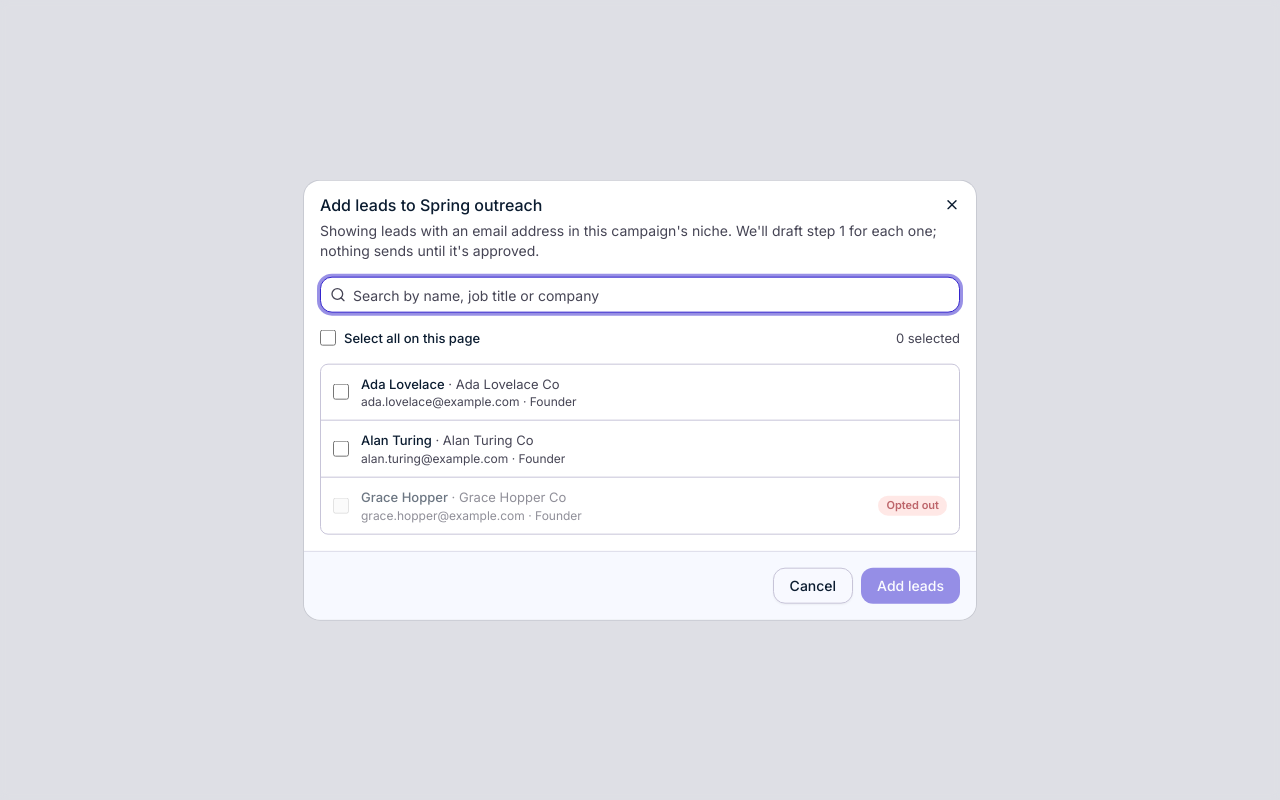
Test: AddLeadsDialog › lets the user pick leads, submits them and shows per-lead results
This screenshot has width=1280, height=800.
Expected: the text "Ada Lovelace" is shown, left=361, top=375, right=445, bottom=391
Expected: the checkbox named "Select Grace Hopper" is disabled, left=333, top=498, right=349, bottom=514
Click the checkbox labelled "Select all on this page": click(328, 338) left=320, top=330, right=336, bottom=346
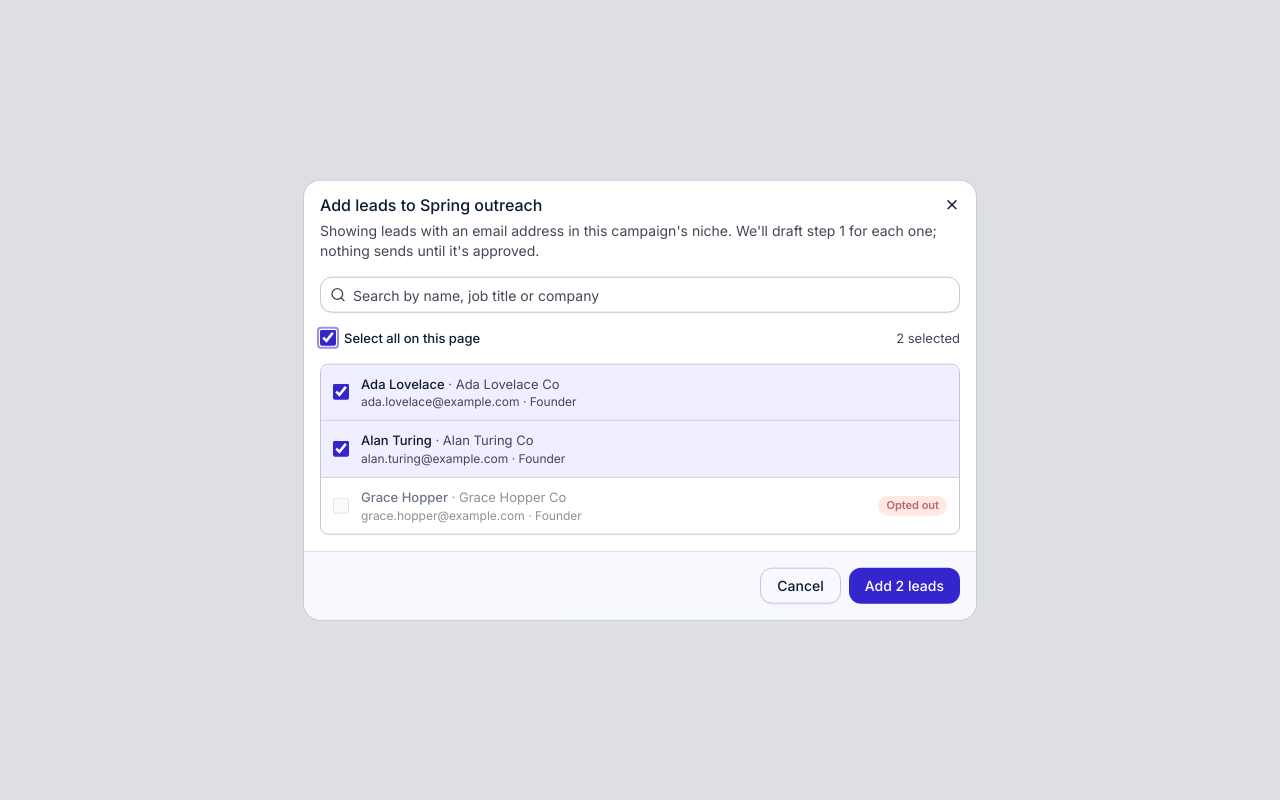
Expected: the text "2 selected" is shown, left=896, top=329, right=960, bottom=347
Click the button "Add 2 leads": click(904, 585) left=849, top=567, right=960, bottom=603
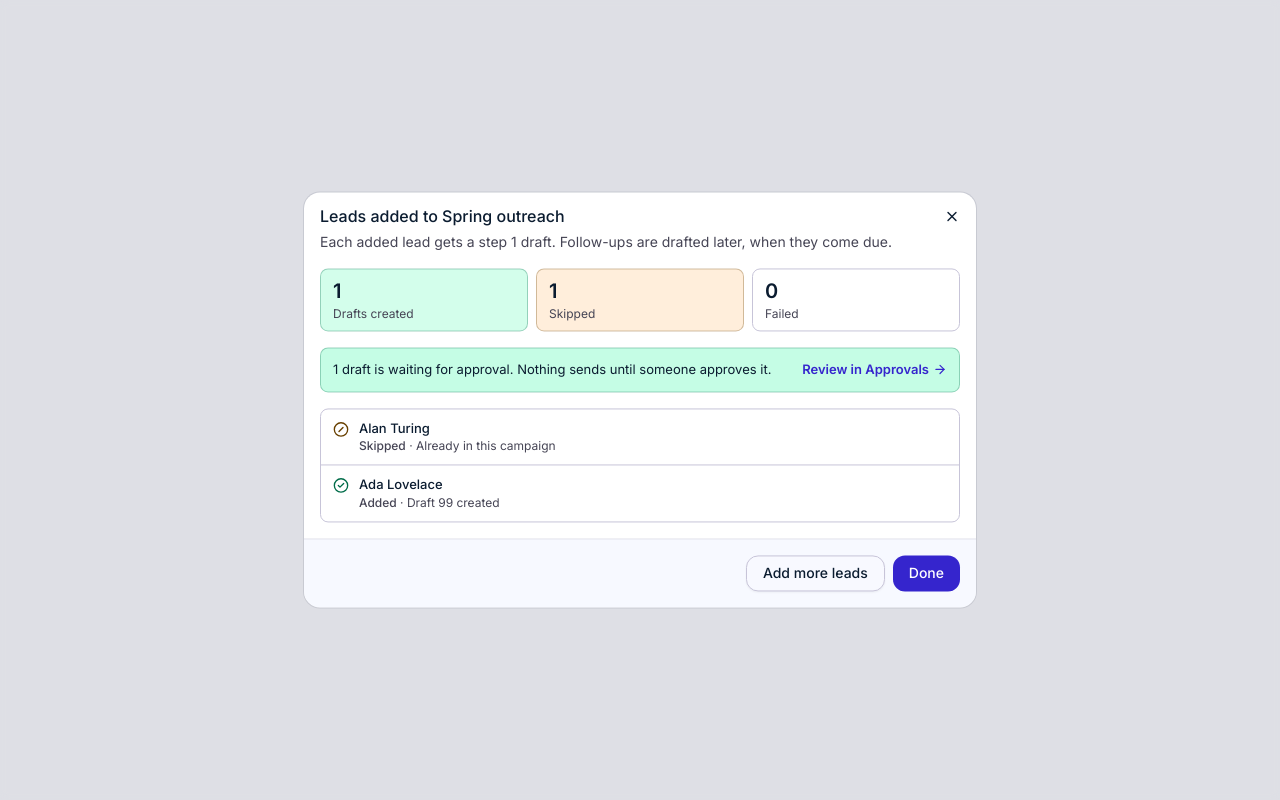
Expected: the heading "Leads added to Spring outreach" is shown, left=320, top=206, right=565, bottom=226
Expected: the list item "Alan Turing Skipped · Already in this campaign" is shown, left=321, top=409, right=959, bottom=466
Expected: the list item "Ada Lovelace Added · Draft 99 created" is shown, left=333, top=476, right=500, bottom=510
